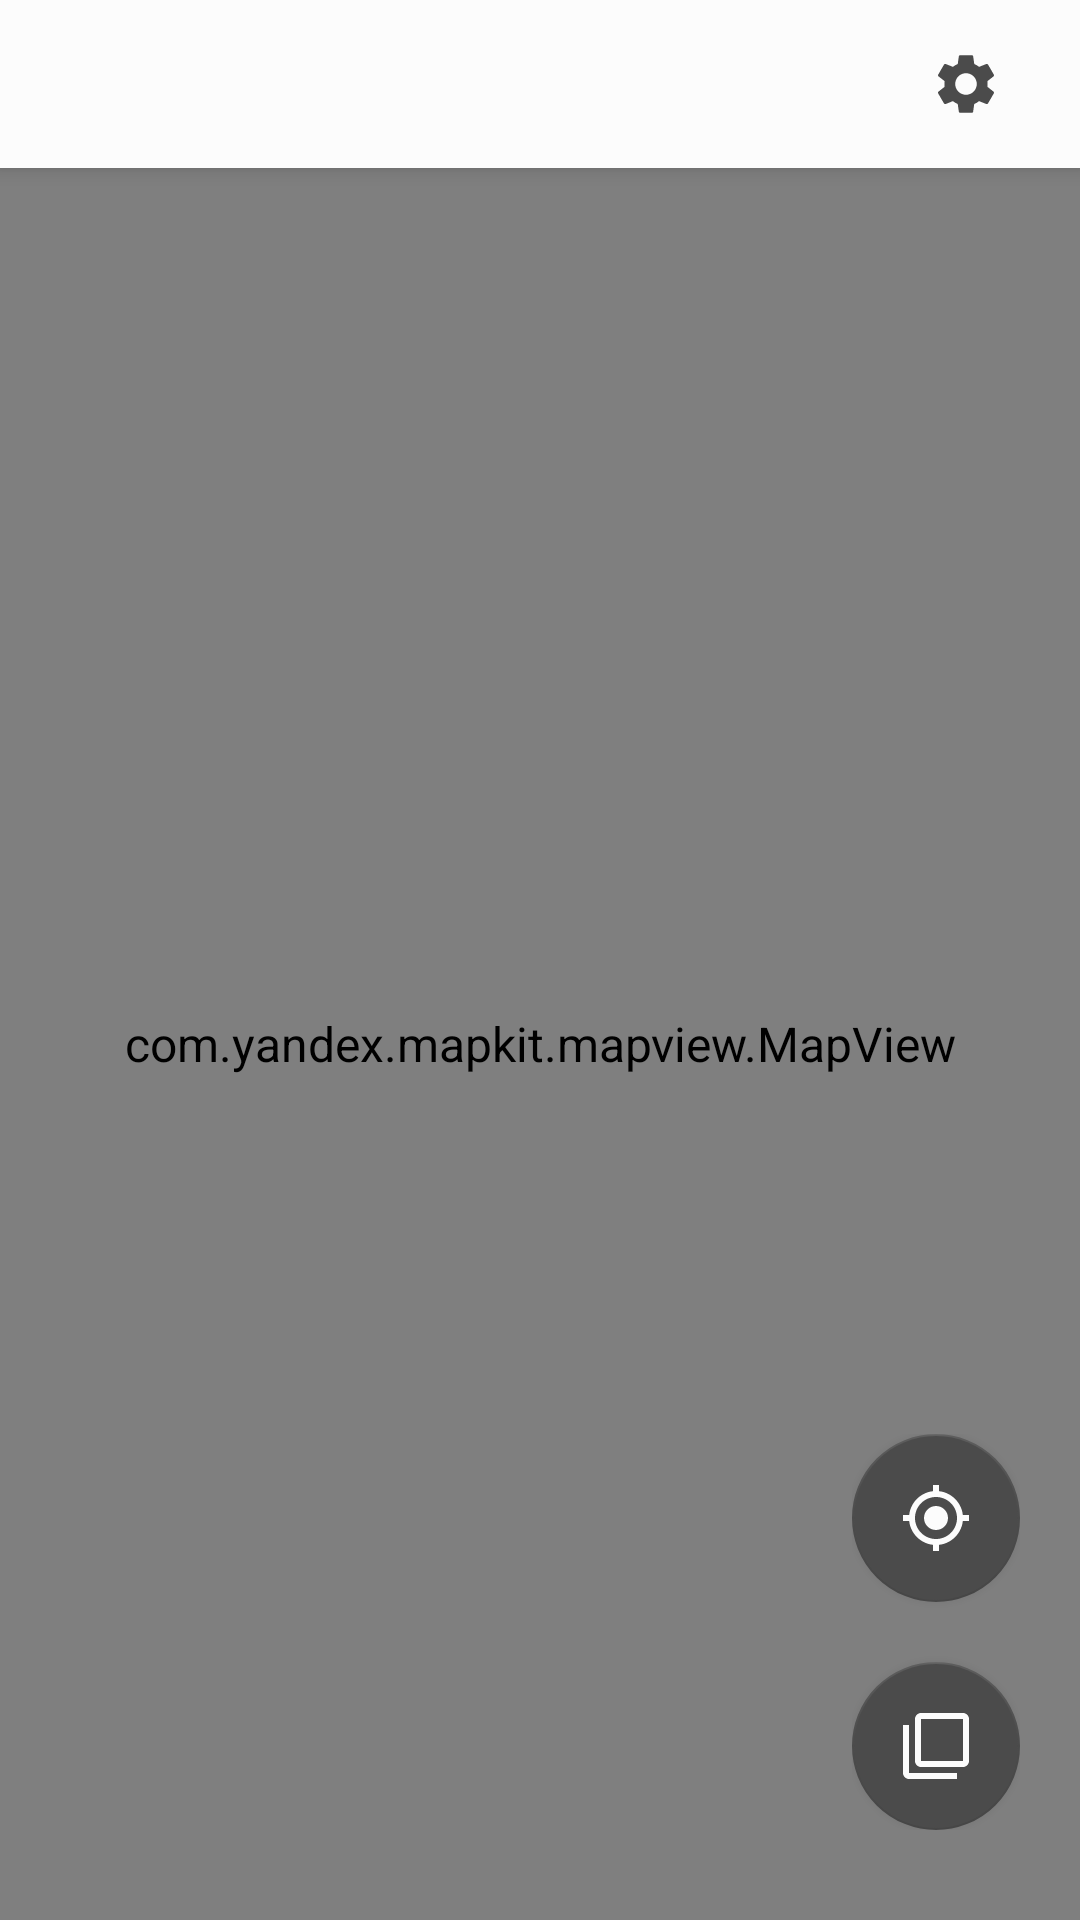

Screen size 1080 x 1920. Icon name, then its box in pixels as (x1, y1, x2, y2):
location: (852, 1435, 1020, 1602)
settings: (938, 55, 994, 113)
